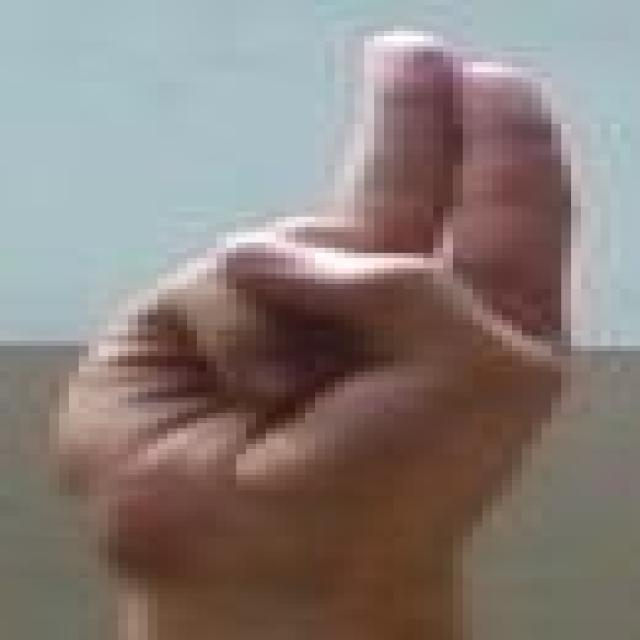U: (3, 3, 640, 640)
